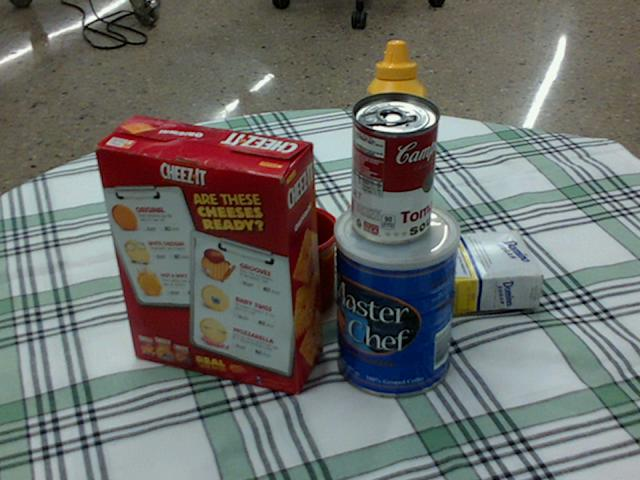cracker_box: (90, 117, 322, 392)
gelatin_box: (346, 189, 446, 258)
master_chef_can: (334, 197, 460, 397)
mug: (241, 205, 339, 320)
mustard_bottle: (365, 41, 424, 243)
potted_meat_can: (157, 218, 247, 307)
sugar_box: (349, 227, 544, 321)
tomato_soup_can: (348, 92, 437, 243)
tuna_fish_can: (164, 186, 253, 260)
